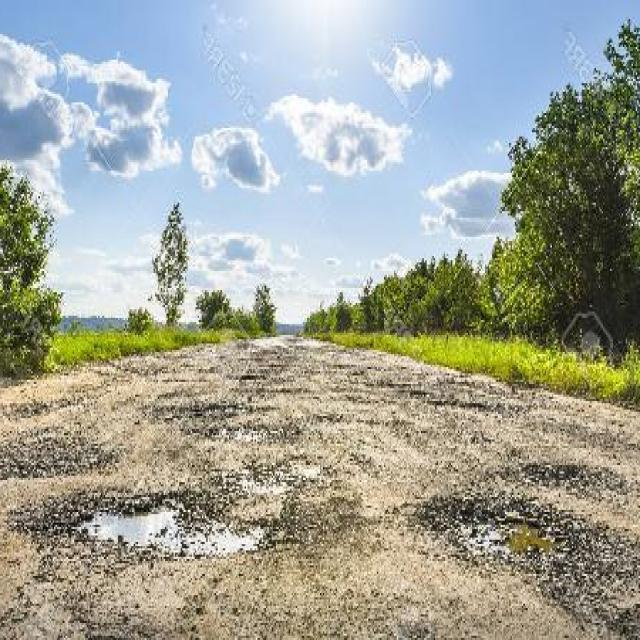pothole: (36, 482, 284, 559), (424, 488, 599, 576), (519, 454, 599, 494)
